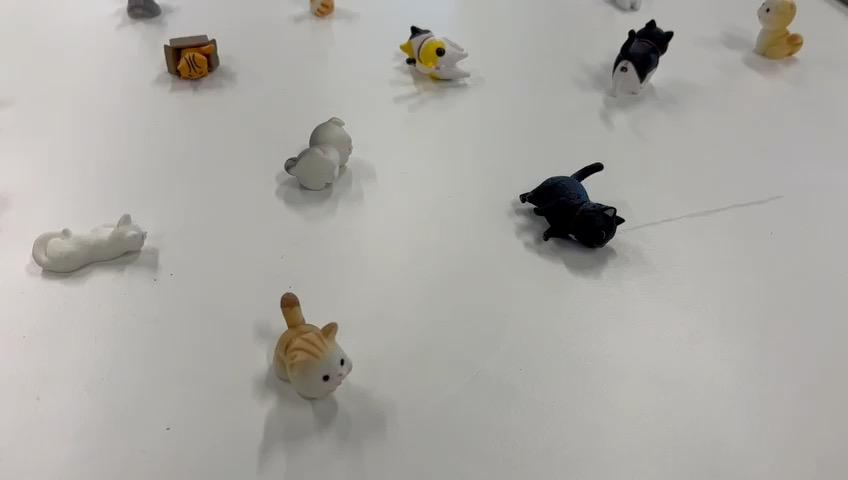pet: (513, 141, 640, 282), (26, 194, 166, 320), (251, 271, 372, 404), (273, 81, 367, 220), (592, 17, 681, 112), (398, 16, 486, 106), (146, 24, 231, 105), (748, 0, 813, 70)
